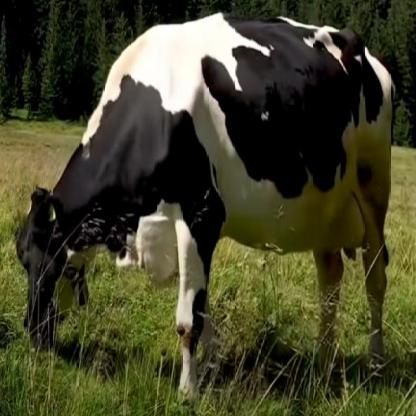cow: (15, 12, 397, 398)
